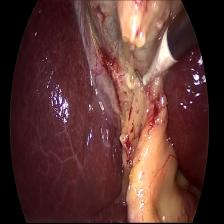Hook: (134, 27, 181, 92)
